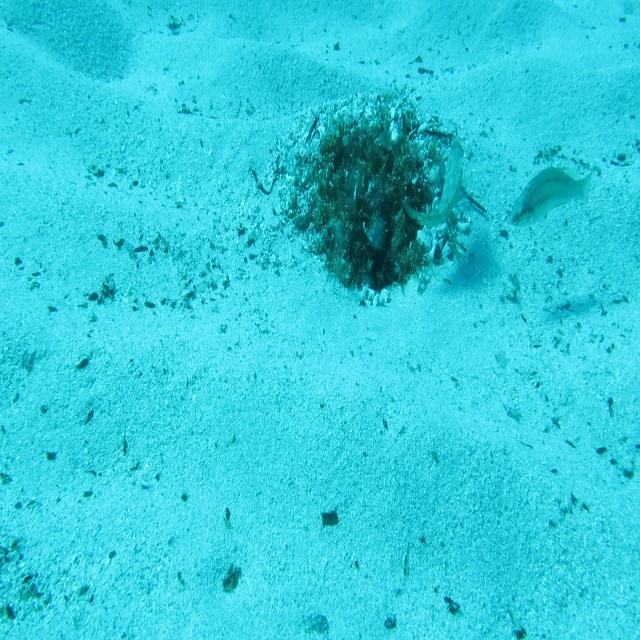ROLL: (400, 138, 466, 232)
core_nest: (344, 143, 392, 177)
female: (507, 162, 595, 230)
nest: (274, 87, 476, 323)
vegetation: (218, 562, 245, 597), (320, 506, 340, 529)
